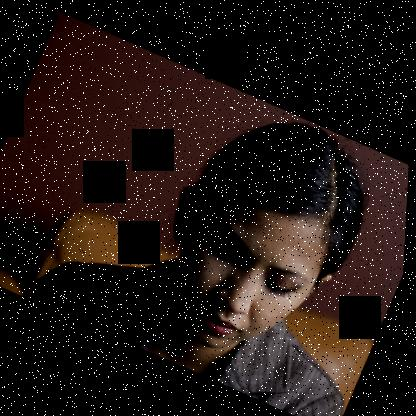Female: (131, 153, 357, 379)
